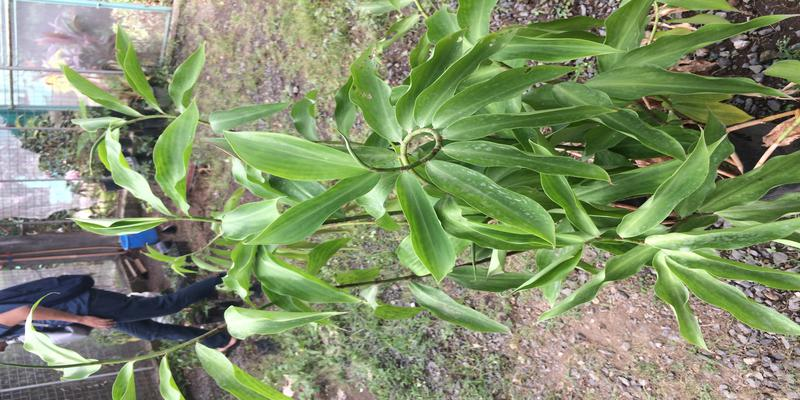Insulin: (82, 40, 733, 261)
